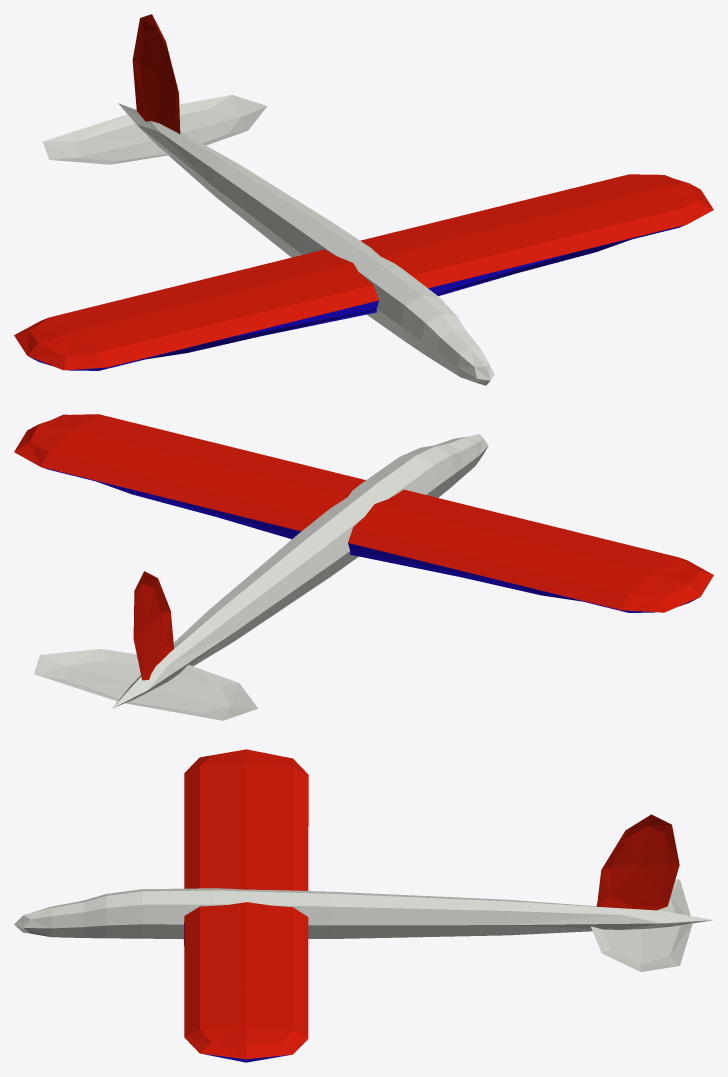
The picture shows the model from 3 angles, top to bottom: view 1: azimuth 30°, elevation 25°; view 2: azimuth 150°, elevation 25°; view 3: azimuth 270°, elevation 25°; orthographic projection. The views are drawn at different scales.
Visible parts, largest first — view 1: Cube, Cube_001; view 2: Cube, Cube_001; view 3: Cube, Cube_001.
Part boxes in pixels (left/top/right/bottom): Cube: left=14, top=174, right=713, bottom=370; Cube_001: left=43, top=14, right=494, bottom=385; Cube: left=14, top=414, right=713, bottom=612; Cube_001: left=34, top=434, right=488, bottom=720; Cube: left=184, top=749, right=308, bottom=1062; Cube_001: left=14, top=814, right=713, bottom=971.
Bounding box in the file's own units: 10.31 × 1.92 × 9.89.
